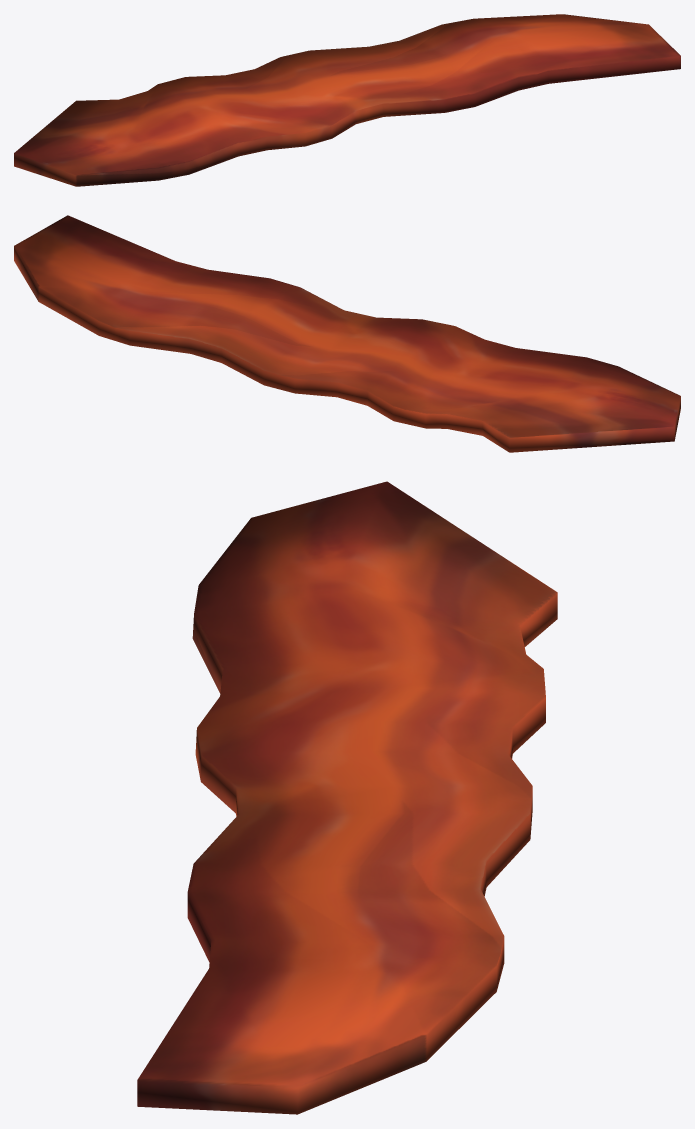
File: Bacon.fbx
3 renders of one model, top to bottom at view 1: azimuth 30°, elevation 25°; view 2: azimuth 150°, elevation 25°; view 3: azimuth 270°, elevation 25°, orthographic. The views are drawn at different scales.
Parts seen in each view (by area): view 1: Bacon; view 2: Bacon; view 3: Bacon.
Boxes of the visible parts, left/top/right/bottom form: Bacon: left=14, top=14, right=680, bottom=186; Bacon: left=14, top=215, right=680, bottom=452; Bacon: left=137, top=481, right=557, bottom=1114.
Size of the model in its own units: 133 by 3.89 by 39.55.
